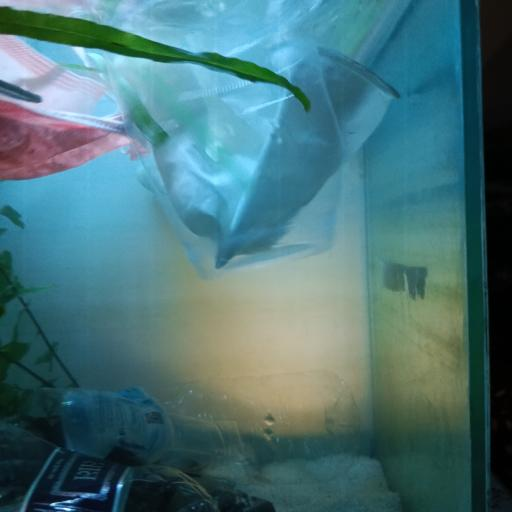glove: (115, 24, 401, 266)
mask: (0, 30, 150, 182)
plastic_bottle: (16, 368, 365, 482), (1, 419, 238, 512)
plastic_cup: (103, 7, 346, 280)
